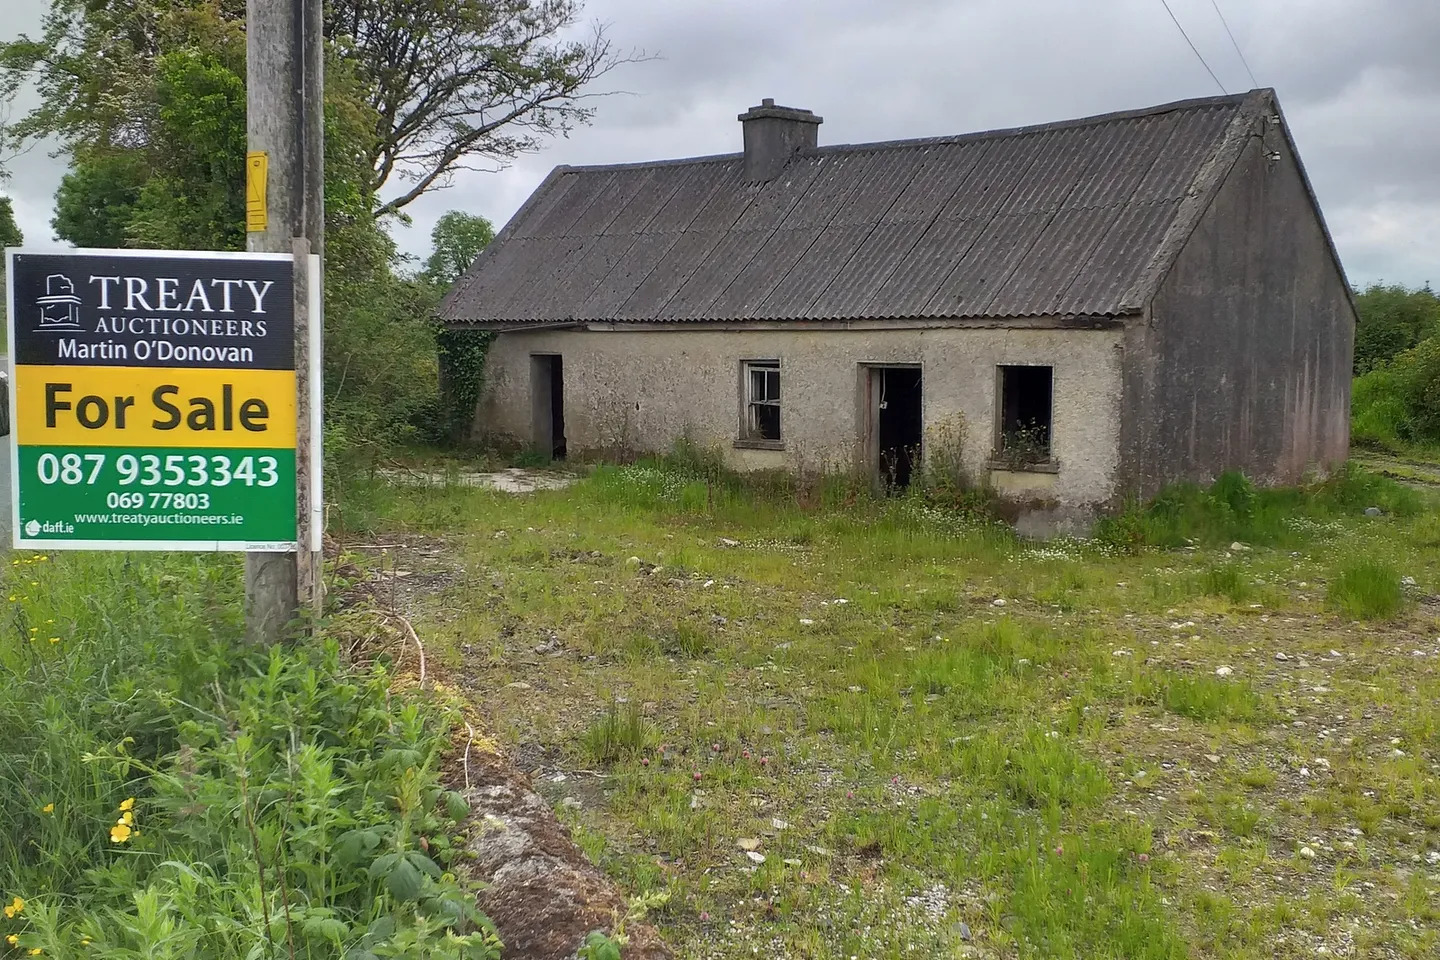property sign: (6, 229, 342, 584)
